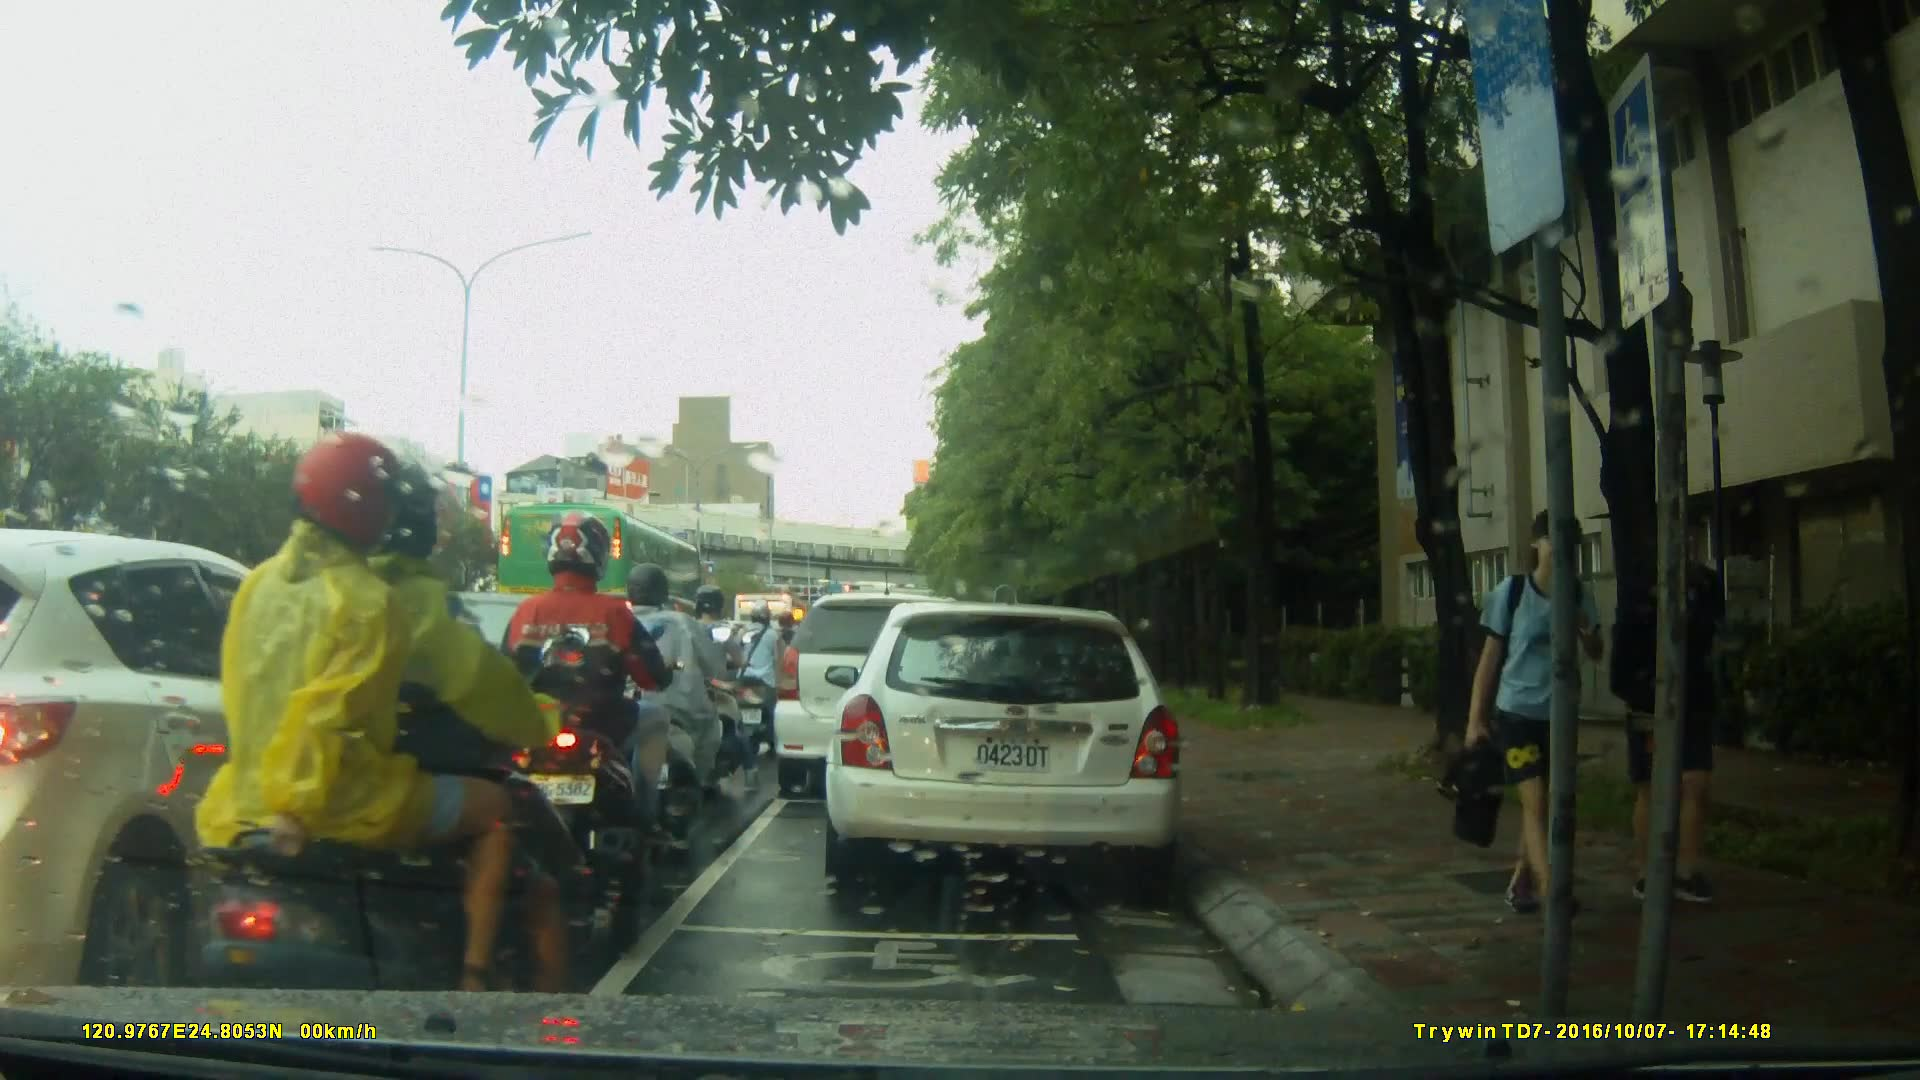pedestrian: (1424, 498, 1635, 941), (1602, 517, 1751, 920)
rider: (178, 432, 606, 1066), (495, 505, 667, 909), (595, 562, 734, 846), (673, 579, 752, 786), (729, 602, 797, 746), (767, 607, 808, 720)
vehicle: (2, 531, 458, 988), (831, 592, 1196, 897), (321, 590, 629, 776), (770, 590, 999, 804), (495, 501, 707, 636)
